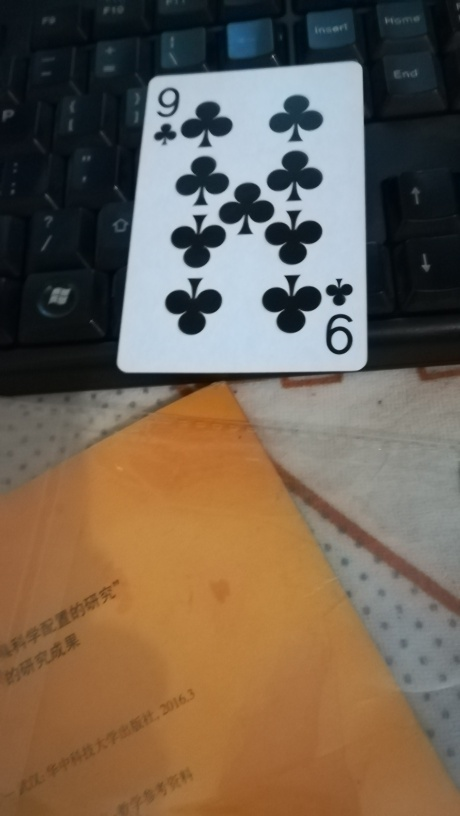mh 9: (116, 58, 371, 374)
